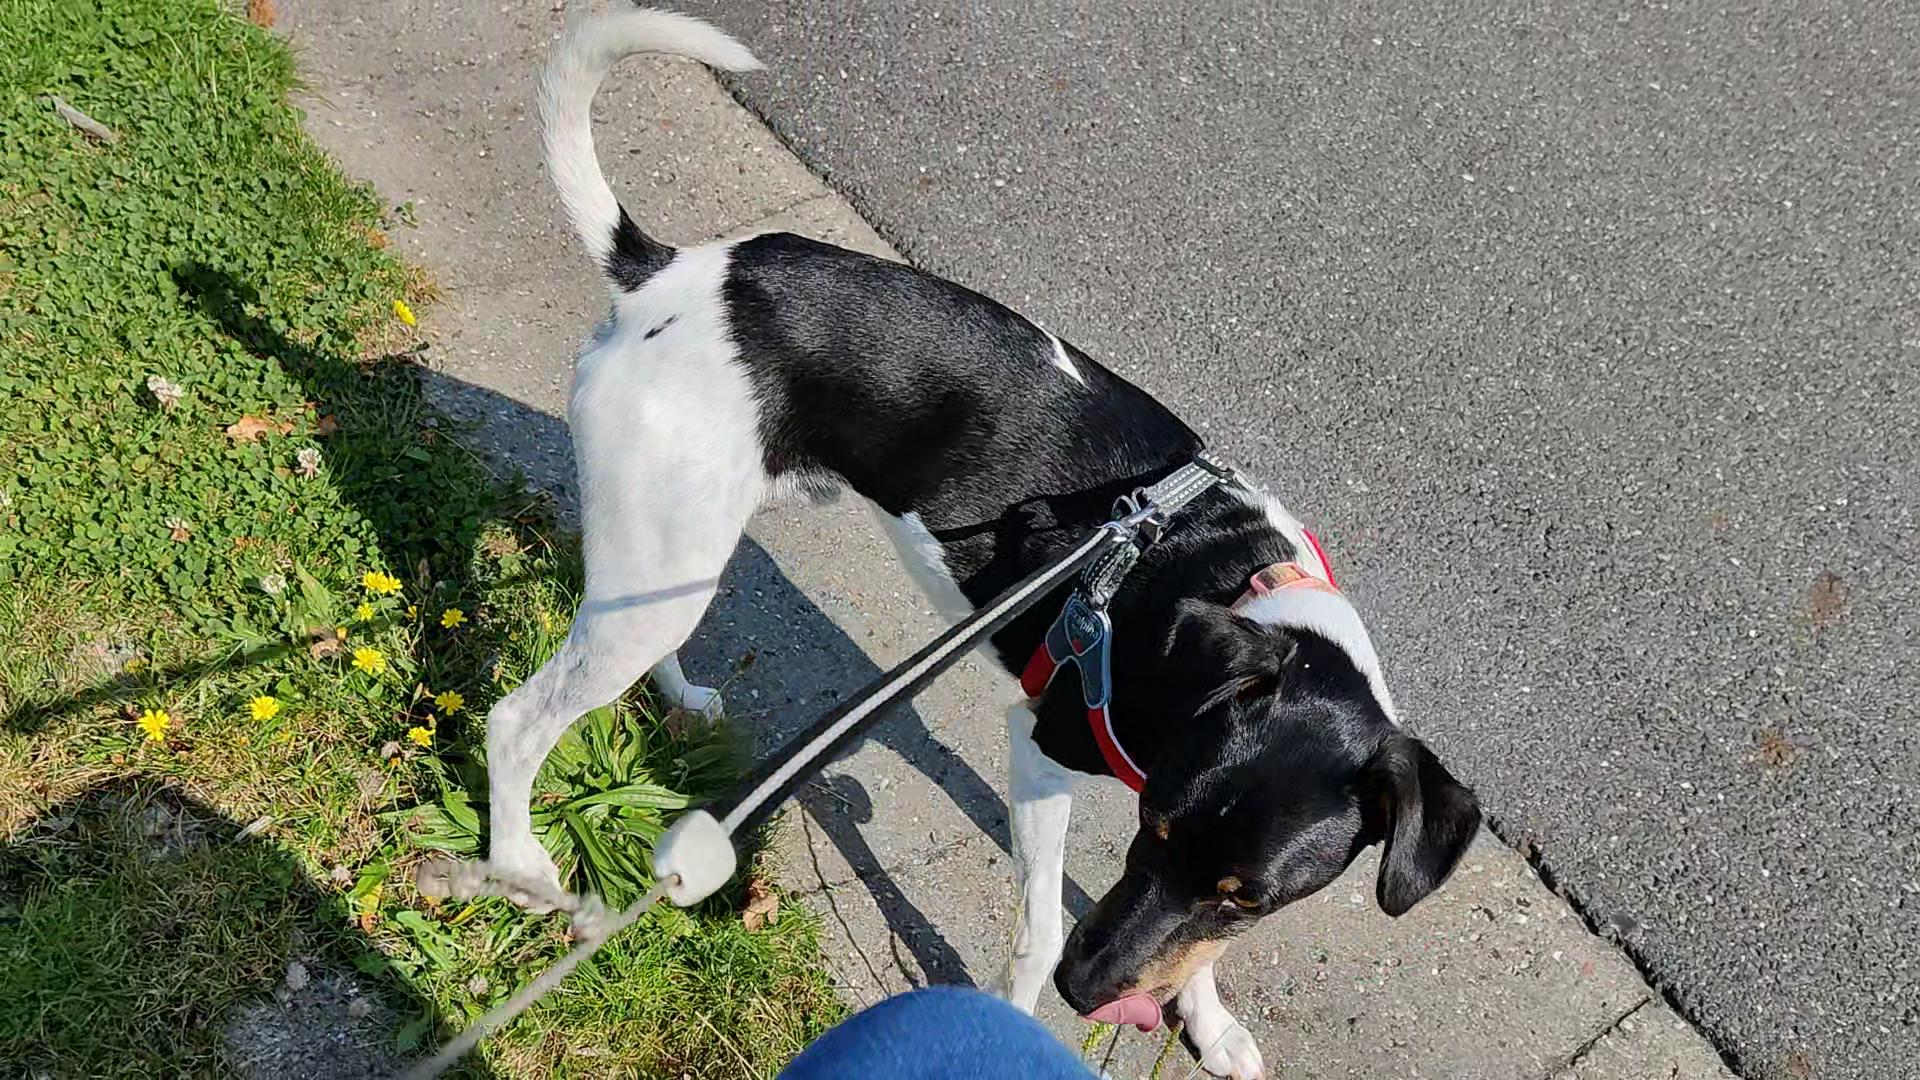Dog: (476, 4, 1493, 1079)
